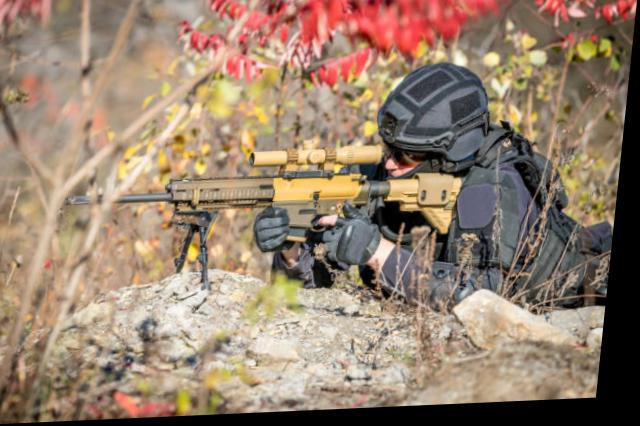other: (333, 73, 626, 312)
